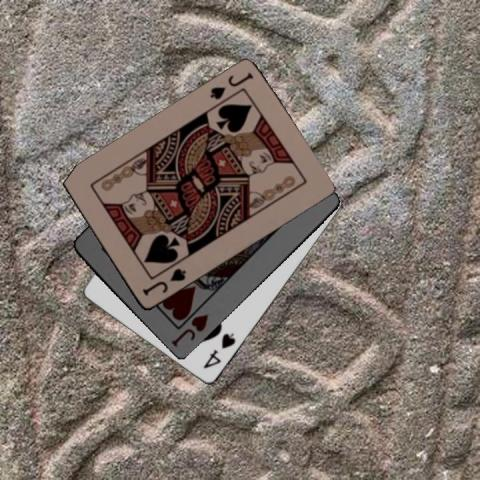4s: (200, 330, 237, 371)
Jh: (168, 311, 210, 349)
Js: (139, 265, 187, 298), (207, 70, 255, 102)
